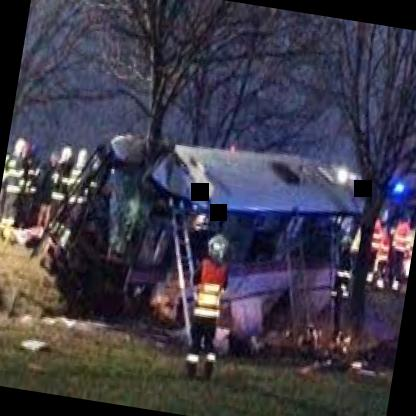accident: (13, 103, 382, 370)
